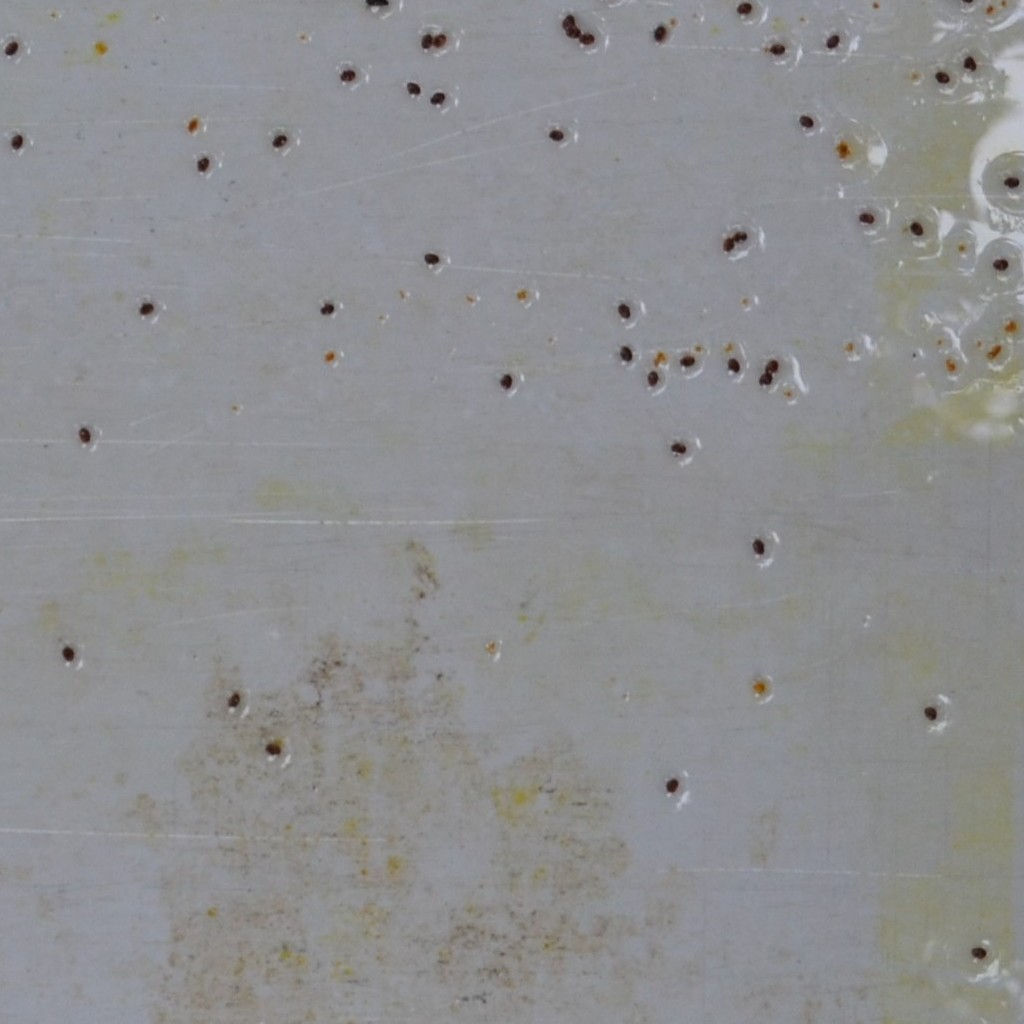varroa: (663, 774, 681, 800), (959, 51, 981, 72), (823, 32, 844, 54), (263, 739, 285, 760), (649, 22, 669, 45), (8, 128, 25, 155), (796, 112, 818, 132), (270, 132, 289, 155), (225, 691, 244, 714), (614, 301, 633, 324), (616, 343, 635, 366), (970, 942, 989, 965), (496, 372, 516, 393), (907, 217, 927, 238), (78, 424, 94, 450), (922, 701, 940, 724), (403, 79, 424, 98), (991, 257, 1010, 278), (317, 298, 335, 320), (60, 643, 76, 667), (422, 248, 442, 267), (750, 537, 769, 557), (431, 31, 449, 52), (547, 126, 566, 145), (1001, 174, 1020, 193), (429, 88, 447, 108), (2, 39, 20, 59), (762, 356, 782, 374), (643, 368, 661, 388), (856, 210, 877, 227), (668, 441, 690, 457), (338, 67, 357, 85), (138, 301, 157, 319), (768, 41, 788, 58), (733, 2, 757, 16), (363, 0, 390, 12), (933, 66, 950, 85), (578, 31, 597, 48), (194, 156, 211, 175), (416, 32, 432, 52), (725, 355, 741, 375), (757, 370, 775, 387), (721, 235, 735, 255), (559, 13, 576, 29), (678, 352, 695, 368), (565, 26, 581, 40), (731, 226, 742, 245), (740, 225, 751, 243)
